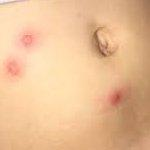Ants: (96, 78, 136, 118), (94, 26, 124, 56), (15, 29, 38, 51), (4, 58, 26, 78)
